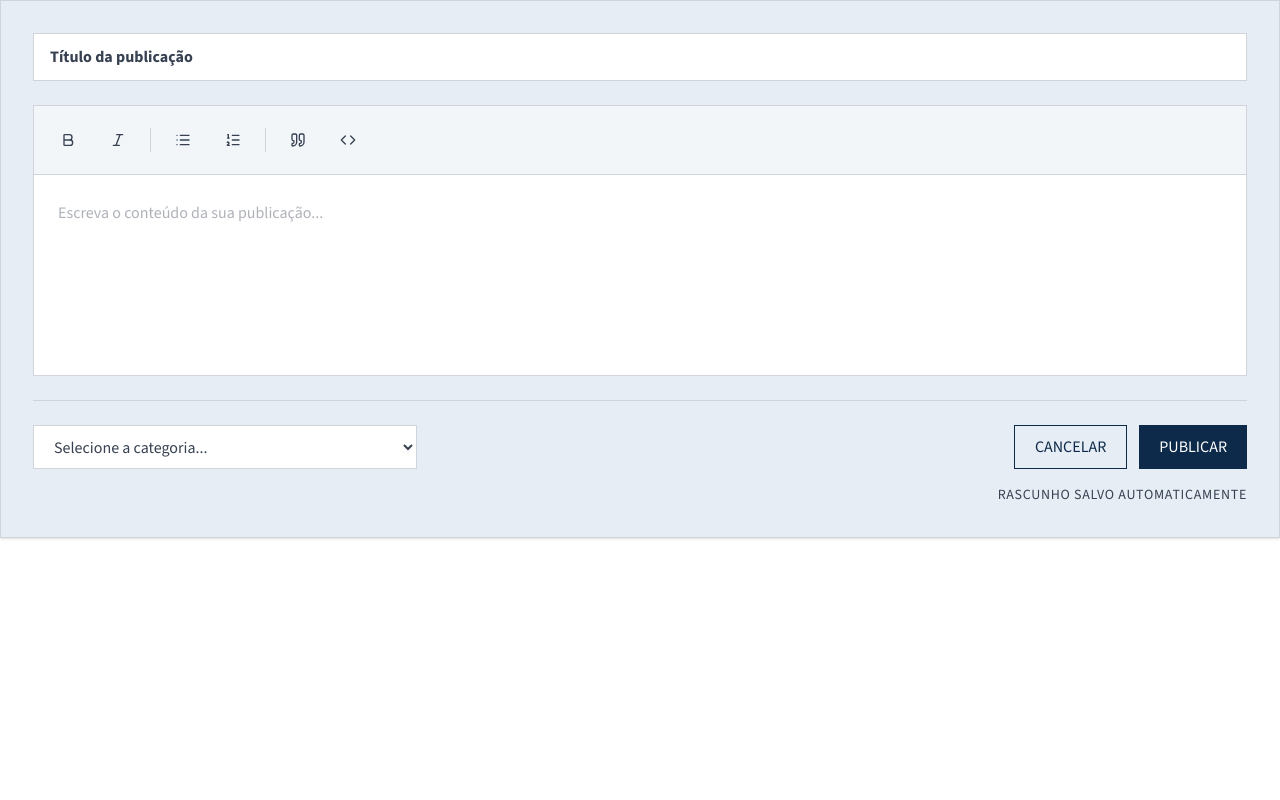
PostEditor - interactive behaviors › shows ConfirmDialog when discarding a draft with content
Type a title to create draft content
Type "Rascunho" into the field with placeholder "Título da publicação" at (640, 57), box x1=33 y1=33 x2=1247 y2=81
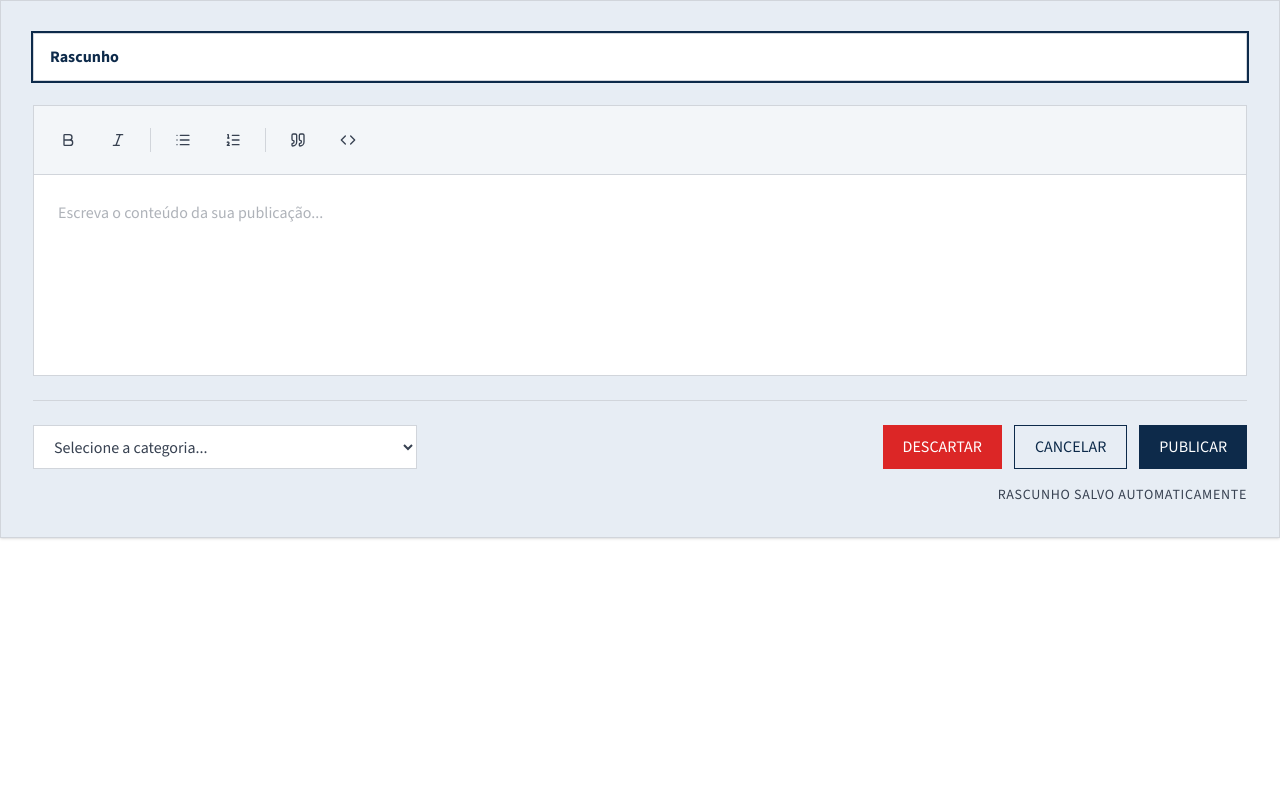
Select "Geral" in the dropdown at (225, 447), box x1=33 y1=425 x2=417 y2=469
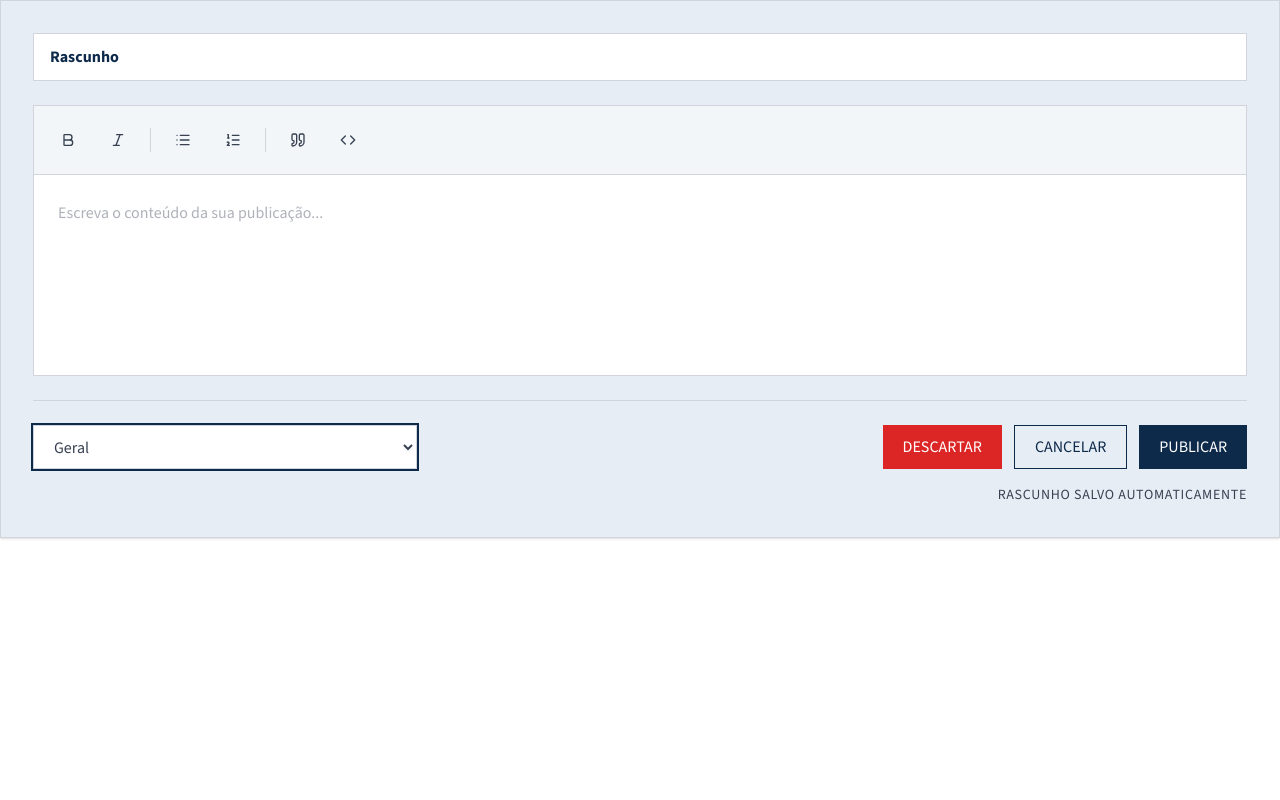
Click discard button
Click the button "DESCARTAR" at (942, 447), box x1=883 y1=425 x2=1002 y2=469
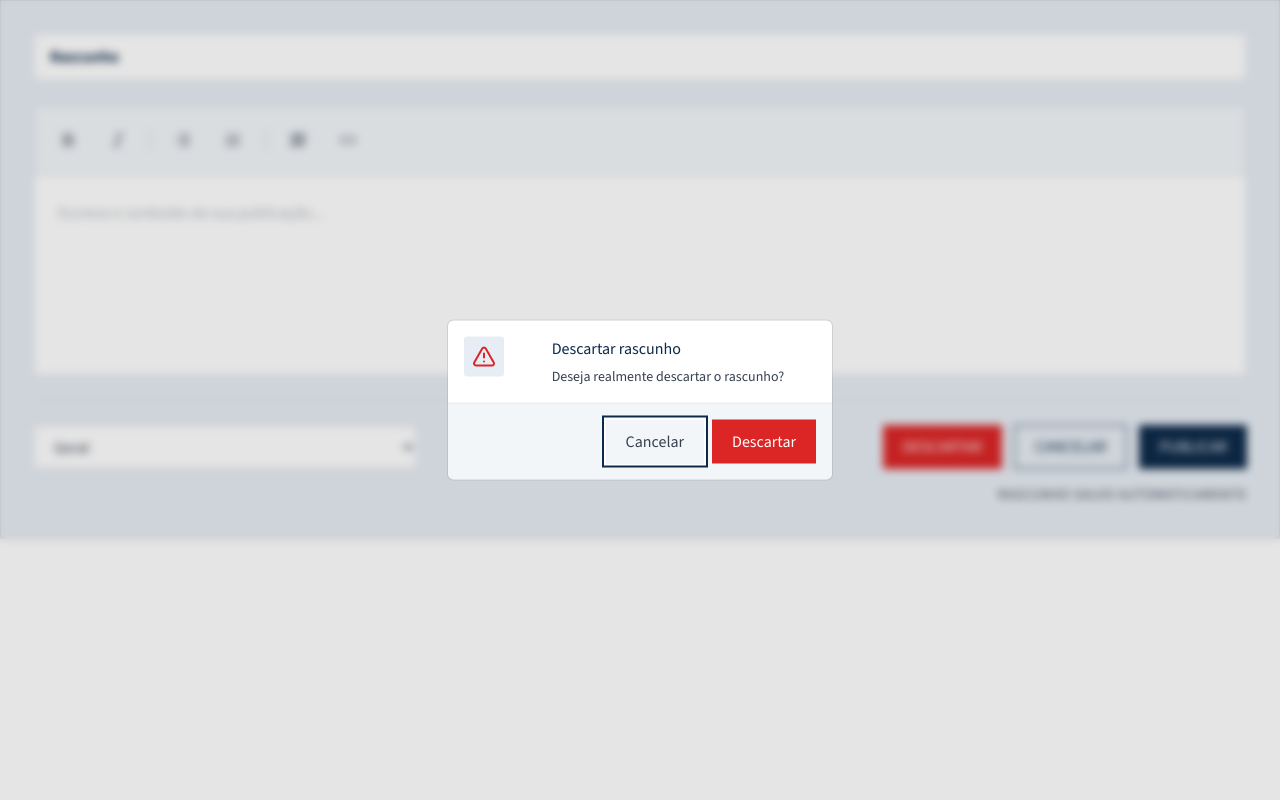
Expected: the heading "Descartar rascunho" is shown, x1=552 y1=336 x2=681 y2=360
Expected: the text "Deseja realmente descartar o rascunho?" is shown, x1=552 y1=366 x2=784 y2=386
